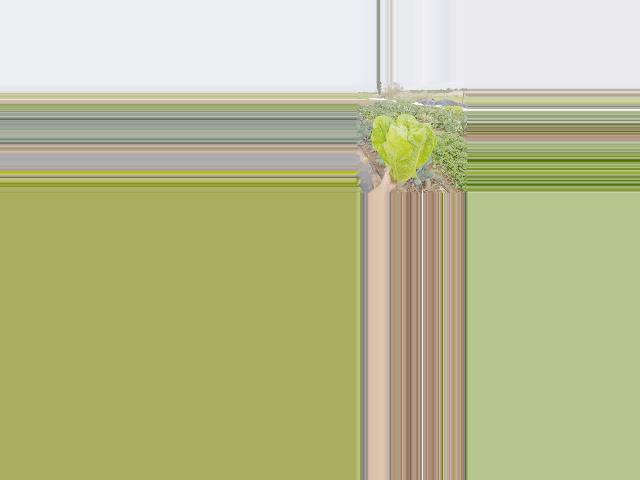lettuce: (367, 113, 438, 187)
